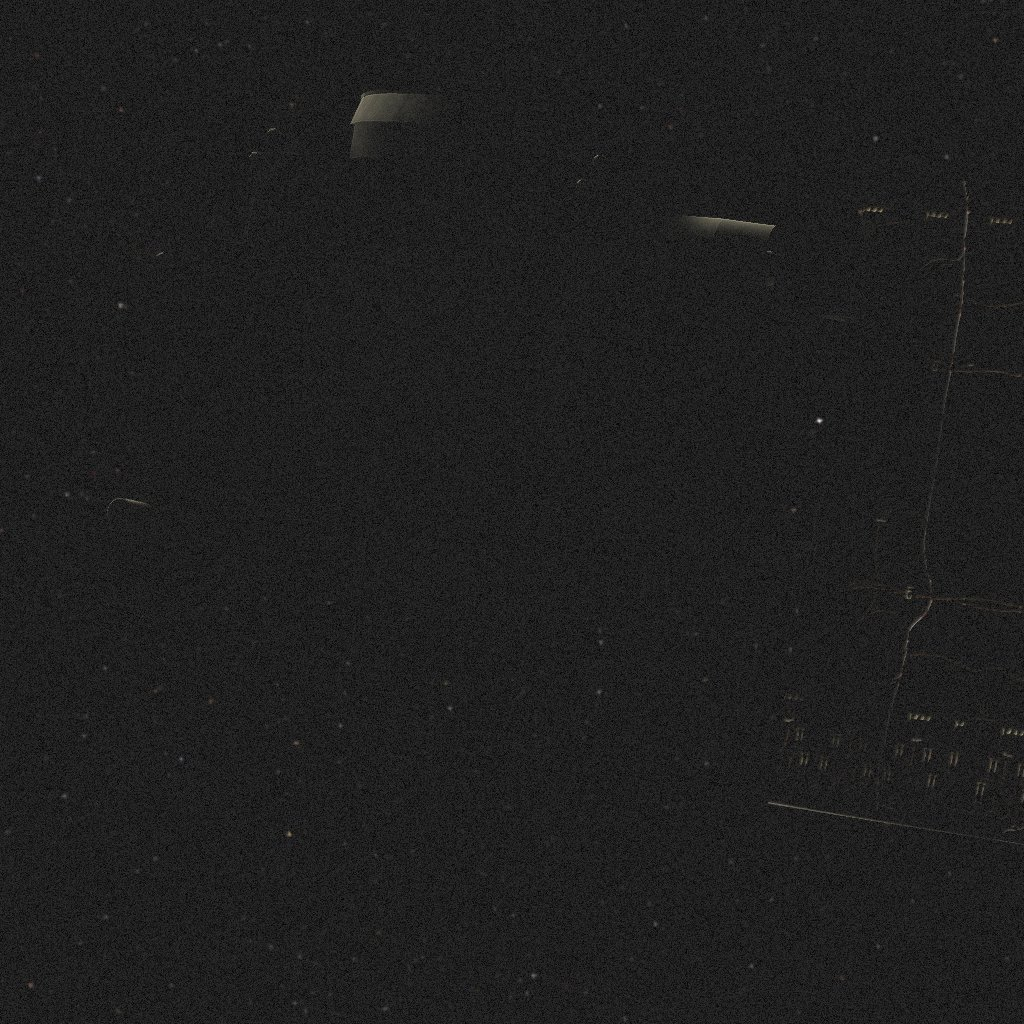proba_3_csc: (144, 79, 1004, 866)
